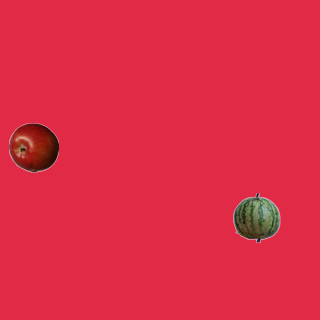Apple Braeburn: (8, 122, 58, 172)
Watermelon: (231, 192, 281, 242)
